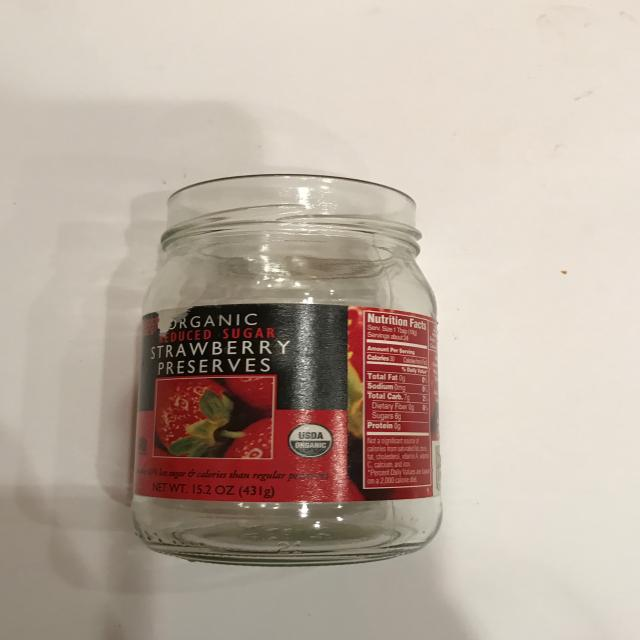glass: (130, 173, 444, 566)
